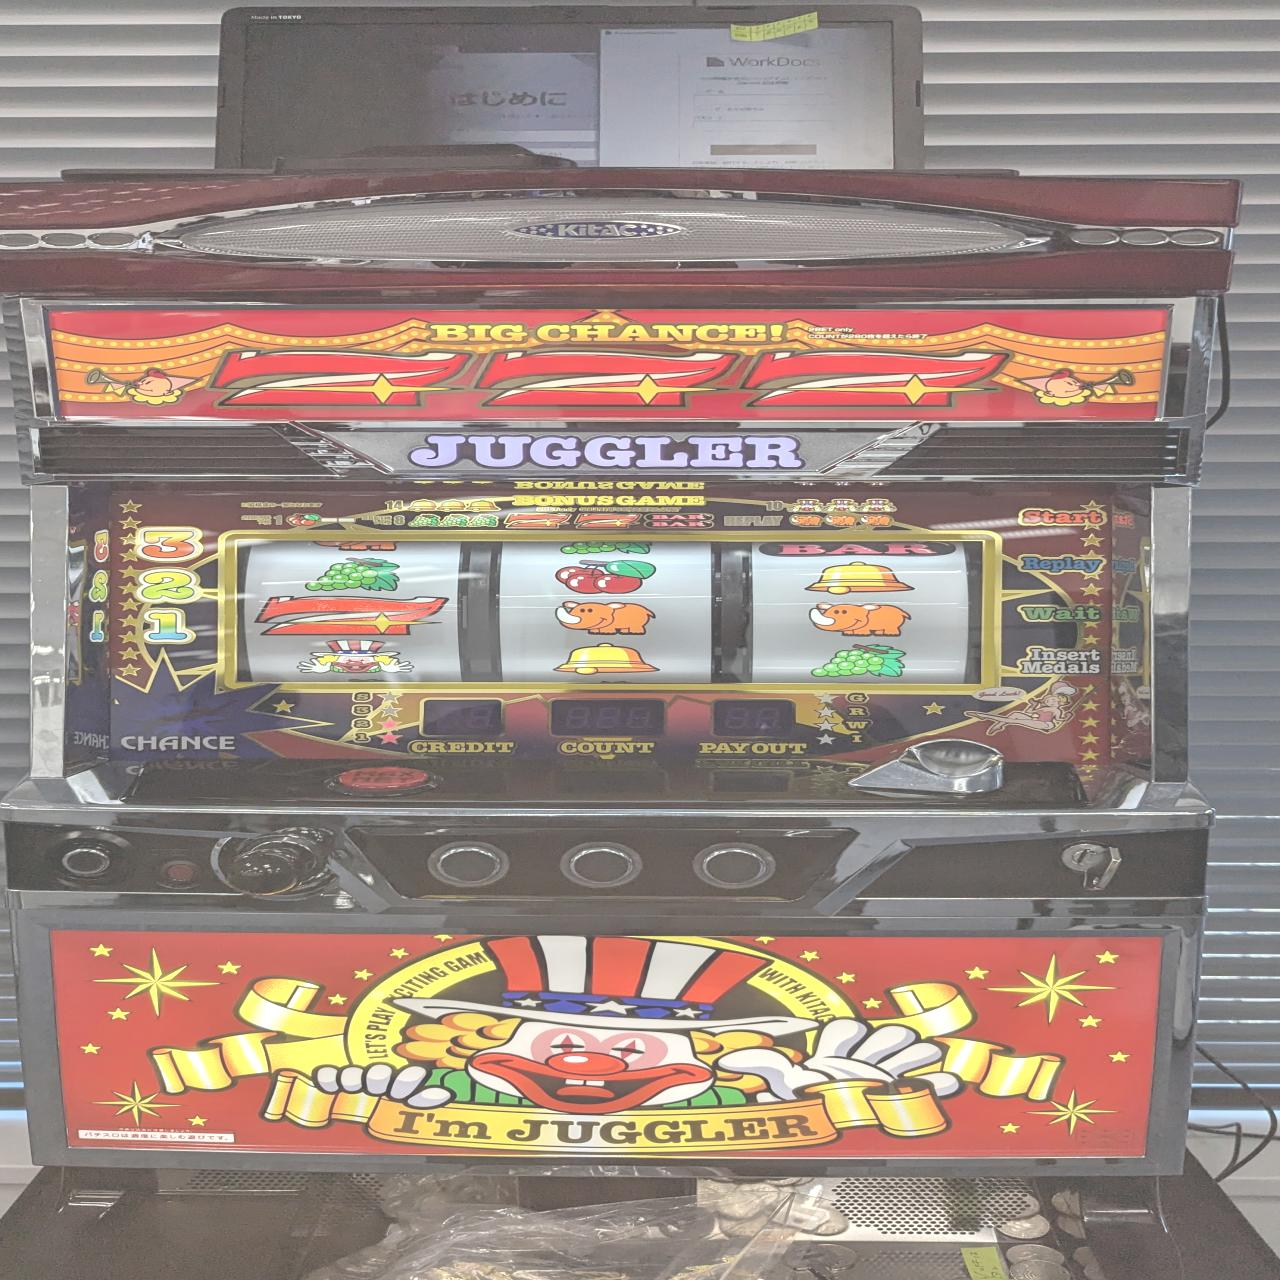7: (252, 592, 451, 640)
8: (543, 597, 663, 636), (805, 601, 917, 638)
Display: (230, 535, 990, 687)
bell: (799, 559, 922, 599), (544, 640, 668, 678)
cherry: (550, 554, 659, 598)
clown: (294, 639, 418, 678)
grape: (293, 554, 407, 594), (805, 641, 911, 680)
